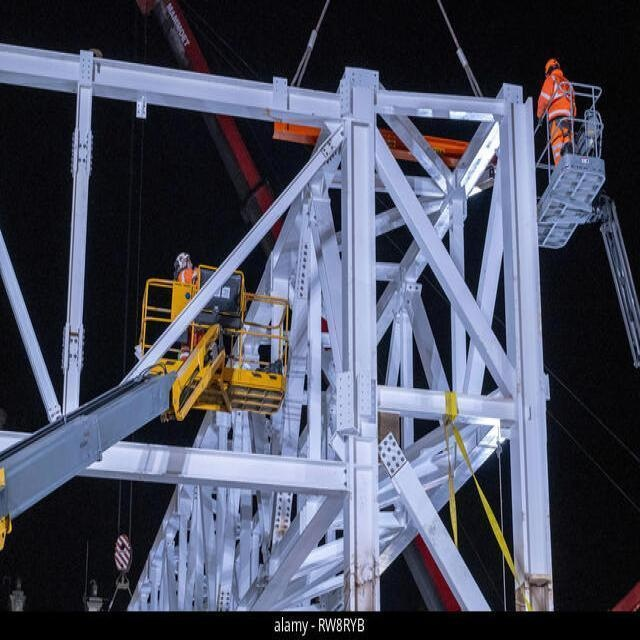Arnes_seguridad: (547, 113, 574, 143)
